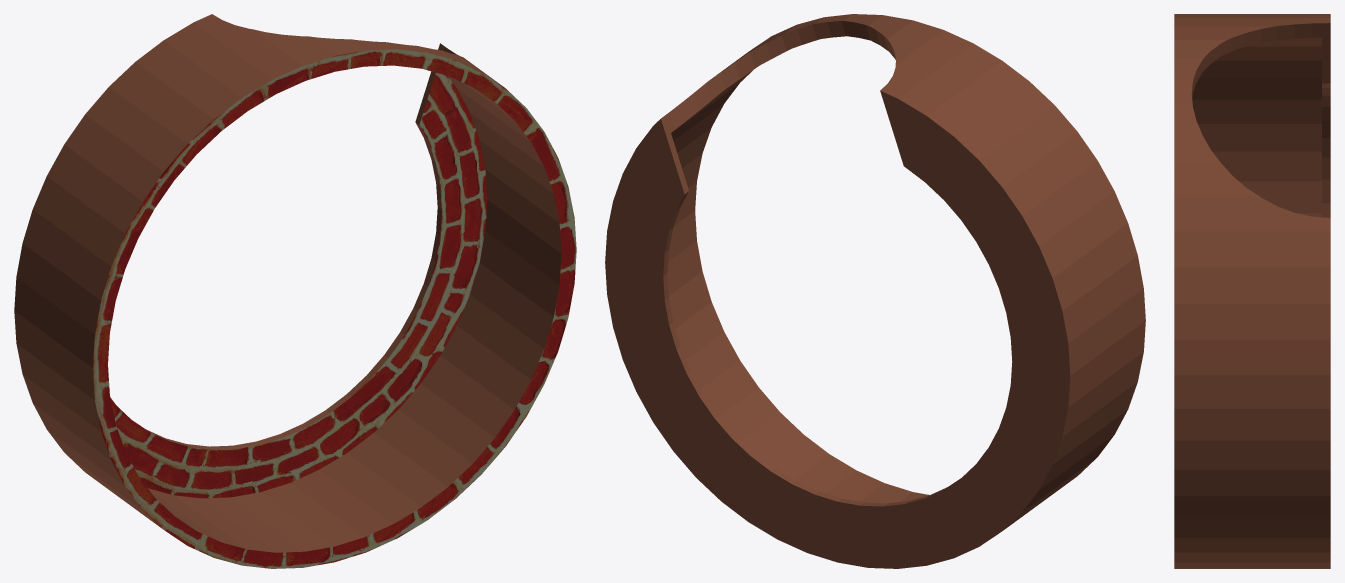
The model's file is pool_038.obj.
3 views of the same model, side by side, from view 1: azimuth 30°, elevation 25°; view 2: azimuth 150°, elevation 25°; view 3: azimuth 270°, elevation 25° (orthographic). The views are drawn at different scales.
Bounding box in the file's own units: 32 × 32 × 9.
